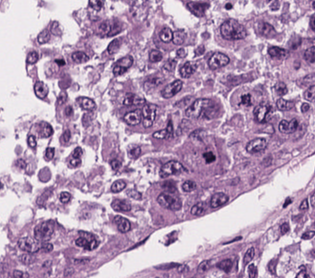nucleus: (185, 98, 216, 118), (220, 19, 246, 40), (75, 231, 98, 250), (160, 160, 185, 177), (157, 192, 180, 210), (34, 221, 53, 242), (113, 55, 132, 75), (161, 79, 182, 97), (208, 52, 229, 69), (98, 20, 120, 36), (141, 104, 156, 127), (246, 137, 266, 153), (187, 1, 208, 16), (253, 103, 269, 122), (278, 118, 298, 133), (123, 109, 141, 125), (179, 61, 196, 77), (114, 216, 130, 232), (210, 192, 227, 207), (123, 93, 144, 105), (34, 81, 48, 98), (268, 46, 287, 58), (111, 199, 130, 211), (258, 22, 274, 36), (78, 97, 95, 110), (276, 98, 293, 110), (159, 27, 172, 42), (172, 29, 185, 44), (39, 122, 52, 137), (190, 202, 205, 215), (71, 51, 88, 62), (107, 39, 120, 53), (304, 46, 314, 63), (149, 49, 162, 62), (274, 82, 287, 95), (37, 29, 49, 43), (111, 180, 125, 192), (304, 84, 314, 100), (162, 181, 176, 192), (163, 59, 175, 71), (182, 180, 195, 191), (89, 0, 103, 10), (127, 189, 141, 199), (128, 147, 140, 158), (59, 191, 70, 203), (203, 152, 215, 162), (153, 129, 166, 138), (57, 92, 66, 104), (166, 120, 172, 138), (61, 130, 70, 142), (45, 147, 54, 159), (280, 222, 289, 234), (110, 159, 120, 169), (241, 94, 250, 105), (72, 147, 81, 158), (69, 157, 80, 166), (301, 231, 313, 239), (195, 45, 204, 55), (299, 199, 307, 210), (176, 48, 185, 57), (309, 15, 314, 30), (283, 198, 291, 207), (301, 103, 309, 111), (65, 106, 72, 115), (55, 59, 65, 65), (225, 3, 231, 9), (311, 193, 313, 206)
